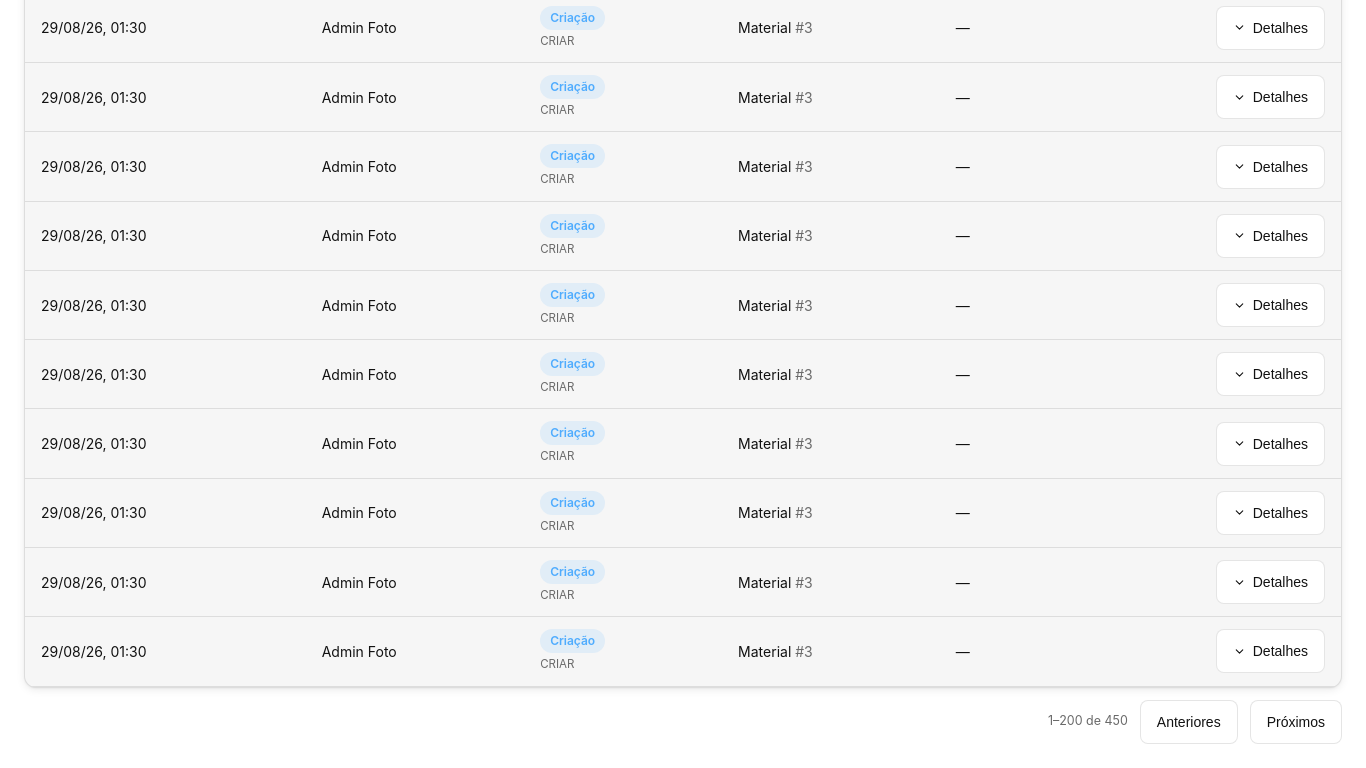
Test case: [A4] "Próximos" avança o offset e a faixa exibida acompanha
Expected: the button "Anteriores" is disabled, [1140,700,1238,744]
Click the button "Próximos" at (1296, 722), box [1250,700,1342,744]
(page scrolled)
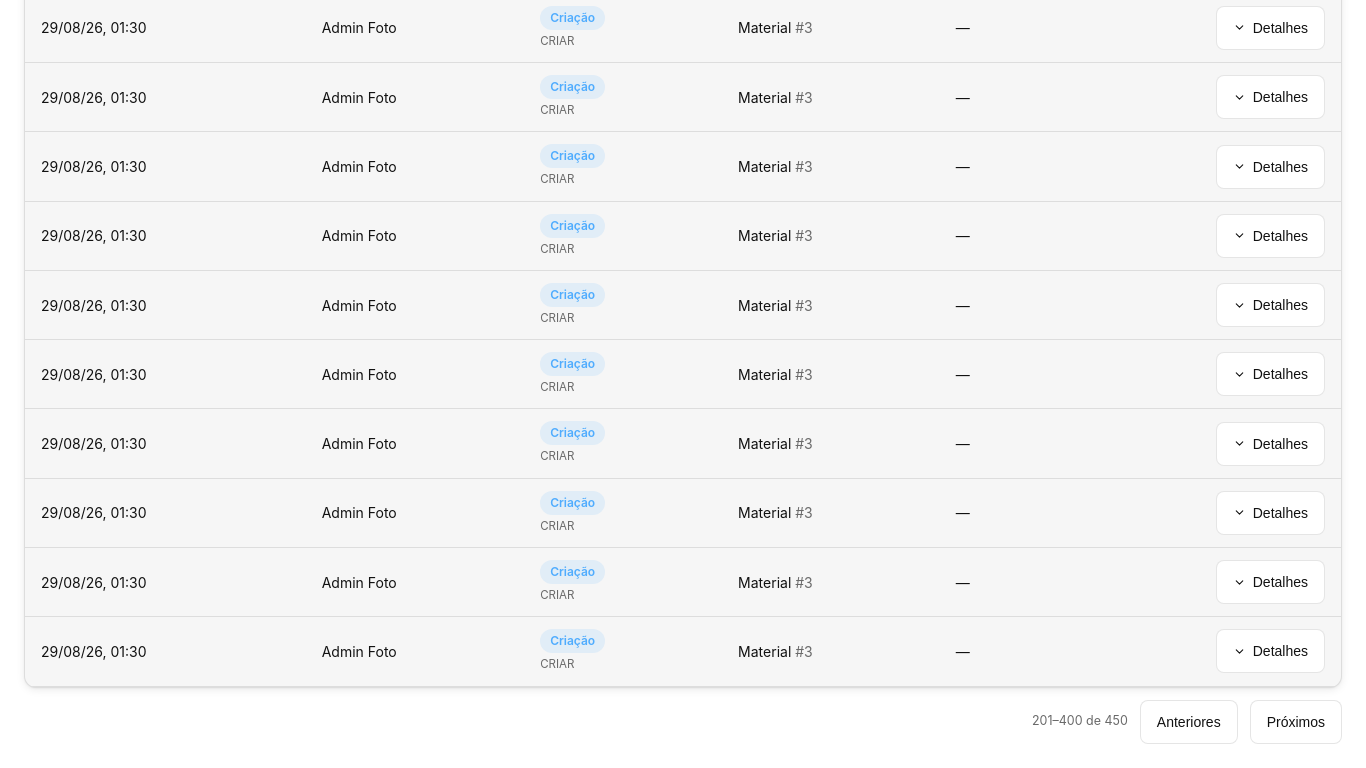
Expected: the text "201–400 de 450" is shown, [1032,712,1128,731]
Click the button "Próximos" at (1296, 722), box [1250,700,1342,744]
(page scrolled)
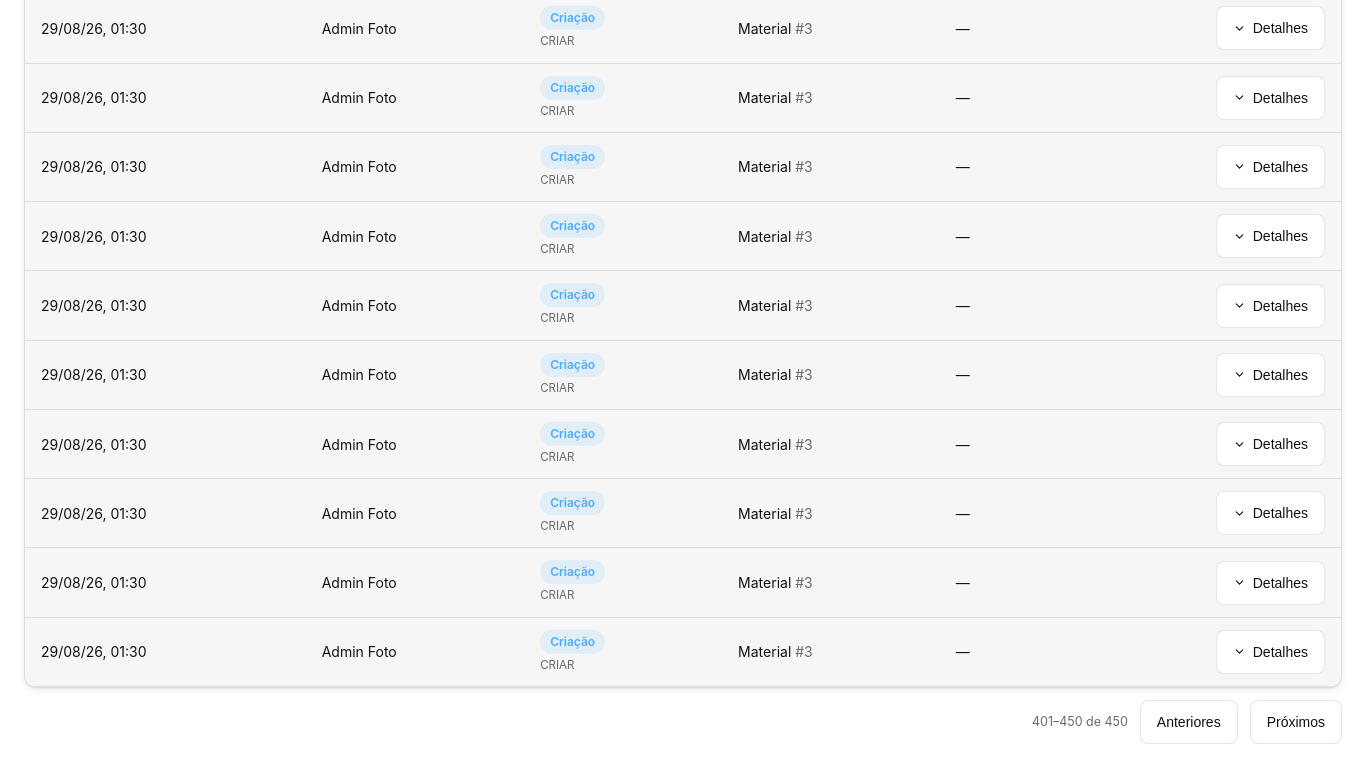
Expected: the text "401–450 de 450" is shown, [1032,713,1128,731]
